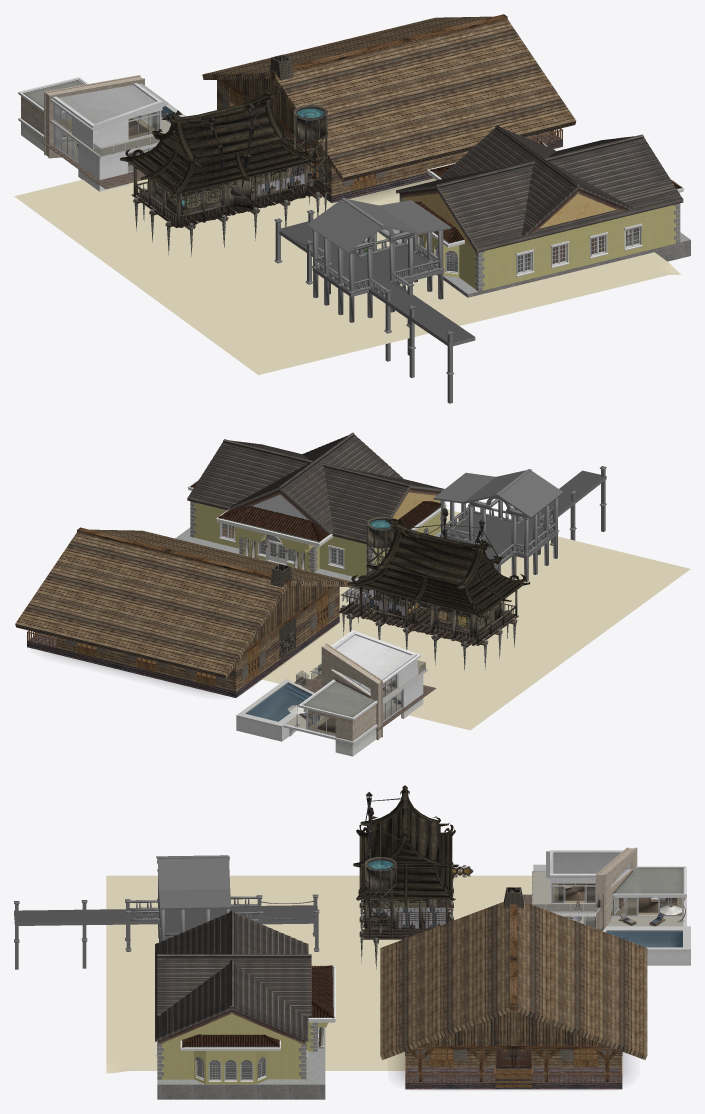
3 views of the same model, one above another, from view 1: azimuth 30°, elevation 25°; view 2: azimuth 150°, elevation 25°; view 3: azimuth 270°, elevation 25° (orthographic). The views are drawn at different scales.
Parts seen in each view (by area): view 1: Terrain 5,0, D&J Wood Cabin, Dach schwarz (×2), Laverie, Beach House 2 (×10), Beach Dock Extended, Public city building 01, [ba] hamptons beach gazebo (×4), wandecke (×2), Wand fuer Fenster (×3); view 2: D&J Wood Cabin, Terrain 5,0, Laverie, Dach schwarz (×2), Beach House 2 (×11), Beach Dock Extended, Public city building 01, Mesh Dach (×2), Wand fuer Fenster (×2), [ba] hamptons beach gazebo (×2), Luxus Hauseingang; view 3: D&J Wood Cabin, Terrain 5,0, Dach schwarz (×2), Beach House 2 (×11), Laverie, Public city building 01, Beach Dock Extended, [ba] hamptons beach gazebo (×3), Mesh Dach (×3), Erkerwand mit Fenster, wandecke.
Boxes of the visible parts, <box> form: Terrain 5,0: <box>14,178,680,374</box>; D&J Wood Cabin: <box>202,14,576,202</box>; Dach schwarz (×2): <box>396,125,683,254</box>; Laverie: <box>120,88,331,256</box>; Beach House 2 (×10): <box>18,75,174,191</box>; Beach Dock Extended: <box>274,197,454,403</box>; Public city building 01: <box>379,193,690,297</box>; [ba] hamptons beach gazebo (×4): <box>279,221,475,347</box>; wandecke (×2): <box>459,205,675,290</box>; Wand fuer Fenster (×3): <box>540,213,641,276</box>; D&J Wood Cabin: <box>15,527,352,697</box>; Terrain 5,0: <box>262,509,690,730</box>; Laverie: <box>338,508,529,670</box>; Dach schwarz (×2): <box>187,432,444,544</box>; Beach House 2 (×11): <box>236,630,436,756</box>; Beach Dock Extended: <box>433,466,606,581</box>; Public city building 01: <box>175,492,440,591</box>; Mesh Dach (×2): <box>216,506,332,546</box>; Wand fuer Fenster (×2): <box>210,506,353,576</box>; [ba] hamptons beach gazebo (×2): <box>440,470,606,543</box>; Luxus Hauseingang: <box>234,526,313,571</box>; D&J Wood Cabin: <box>380,887,647,1089</box>; Terrain 5,0: <box>106,875,531,1073</box>; Dach schwarz (×2): <box>155,910,311,1044</box>; Beach House 2 (×11): <box>532,847,690,965</box>; Laverie: <box>353,785,473,969</box>; Public city building 01: <box>157,1013,325,1099</box>; Beach Dock Extended: <box>14,855,319,969</box>; [ba] hamptons beach gazebo (×3): <box>14,905,317,925</box>; Mesh Dach (×3): <box>180,970,332,1050</box>; Erkerwand mit Fenster: <box>193,1051,267,1084</box>; wandecke: <box>162,1039,192,1079</box>.
Size of what is drawn, in the model's own units: 70.72 by 23.71 by 93.69.
214 materials, 209 textured.
